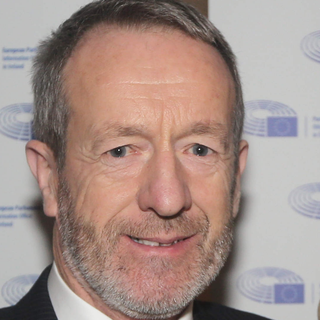eye: (98, 140, 143, 164), (178, 139, 221, 164)
